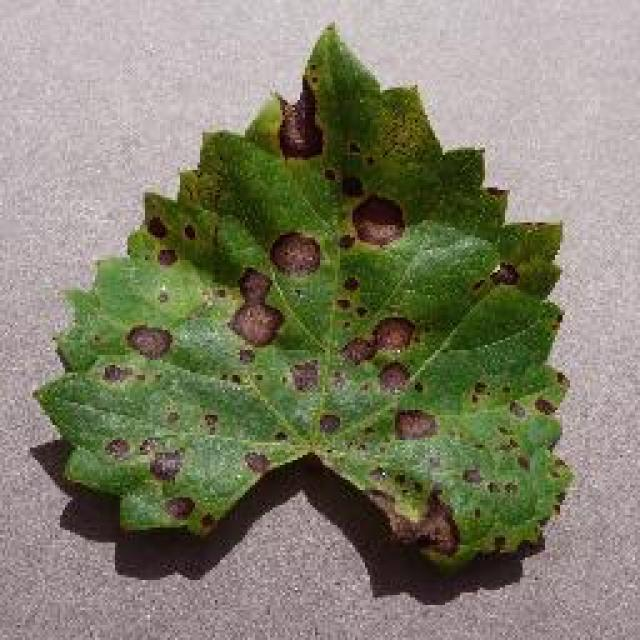Grape___Black_rot: (26, 22, 575, 579)
